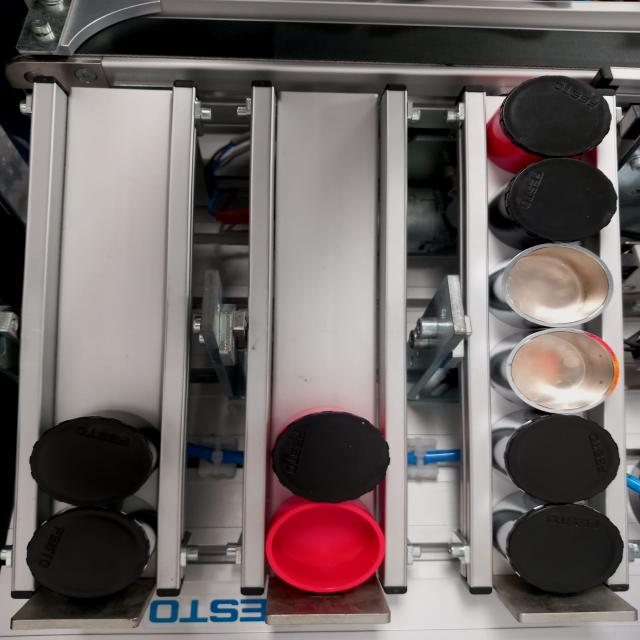NoLid: (260, 500, 412, 598), (494, 240, 629, 336), (500, 333, 631, 414)
Workpiece: (9, 406, 178, 509), (0, 507, 171, 607), (496, 514, 640, 622), (488, 64, 628, 160), (270, 406, 407, 504), (492, 151, 626, 245), (500, 416, 633, 503)
